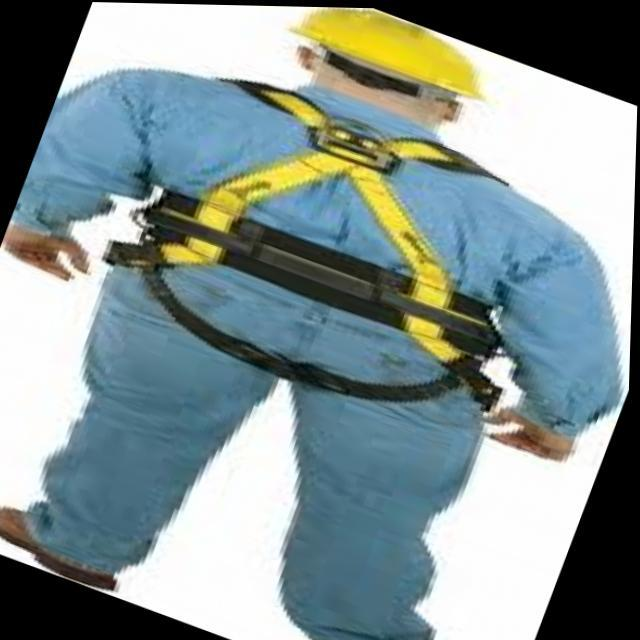belt: (98, 51, 589, 453)
